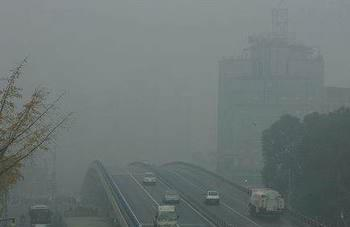bus: (247, 186, 285, 219), (28, 205, 54, 227)
car: (153, 205, 179, 227), (163, 190, 181, 204), (205, 190, 220, 206), (142, 172, 158, 184)
